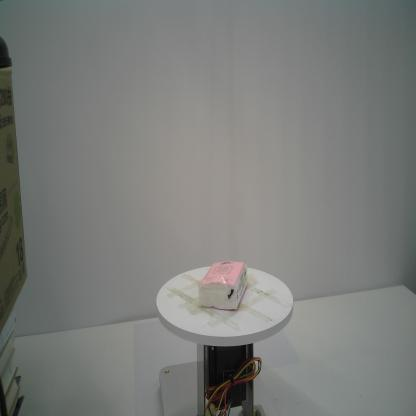Tissue: (198, 261, 248, 310)
